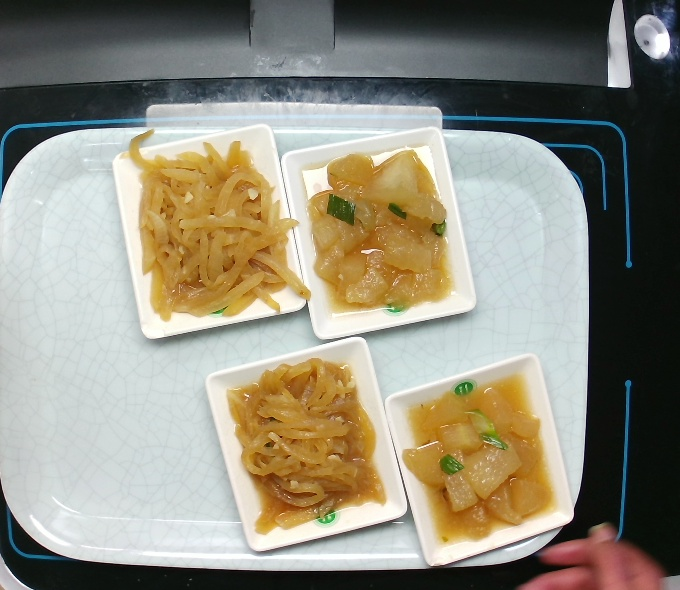wcq-DongGua: (298, 144, 454, 324), (403, 369, 559, 549)
wcq-LuoBoSi: (125, 127, 311, 333), (216, 349, 394, 537)
